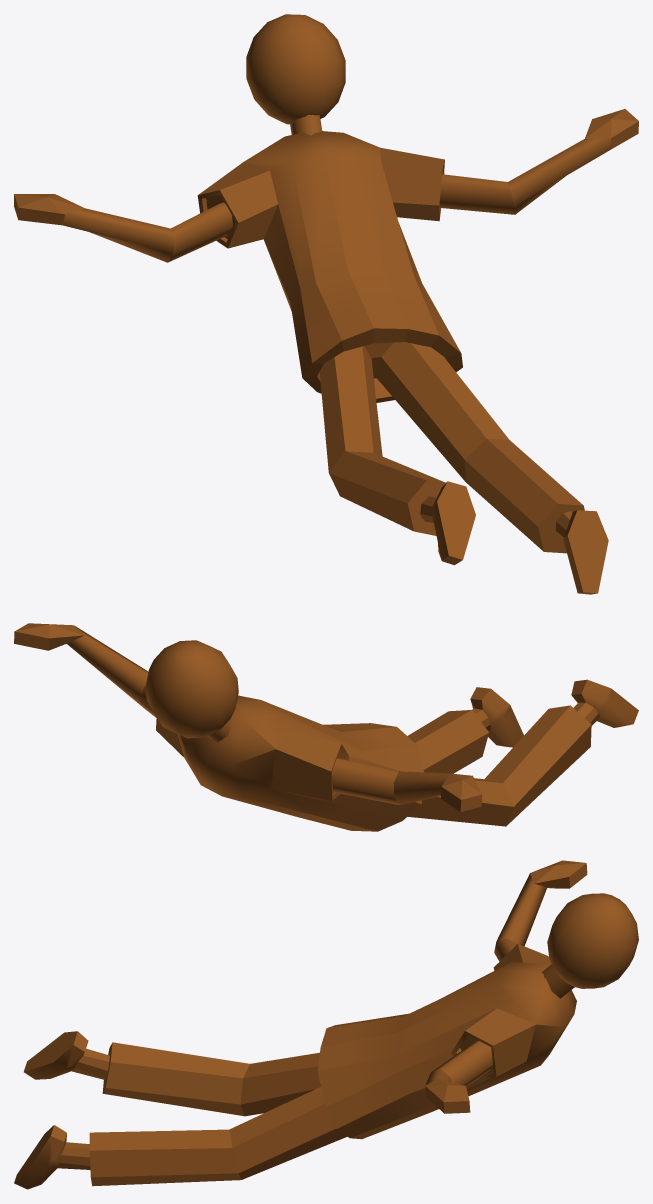
Rendered from Player.obj.
3 views of the same model, one above another, from view 1: azimuth 30°, elevation 25°; view 2: azimuth 150°, elevation 25°; view 3: azimuth 270°, elevation 25° (orthographic). The views are drawn at different scales.
Parts seen in each view (by area): view 1: pSphere3, pSphere5, pSphere1, pCylinder2, pCylinder3; view 2: pSphere3, pSphere5, pSphere1, pCylinder3, pCylinder2; view 3: pSphere3, pSphere1, pSphere5, pCylinder3, pCylinder2, pCylinder10.
Part boxes in pixels (x1,y1,x2,y2): pSphere3: (197, 131, 584, 553); pSphere5: (14, 109, 638, 262); pSphere1: (246, 14, 345, 124); pCylinder2: (556, 510, 608, 594); pCylinder3: (420, 481, 475, 565); pSphere3: (156, 695, 591, 831); pSphere5: (14, 623, 482, 812); pSphere1: (145, 640, 238, 738); pCylinder3: (571, 679, 638, 727); pCylinder2: (470, 687, 523, 747); pSphere3: (89, 944, 576, 1186); pSphere1: (547, 893, 638, 988); pSphere5: (425, 860, 587, 1113); pCylinder3: (24, 1031, 109, 1079); pCylinder2: (14, 1125, 90, 1189); pCylinder10: (541, 964, 574, 998).
Bounding box in the file's own units: 5.57 × 3.25 × 6.08.
